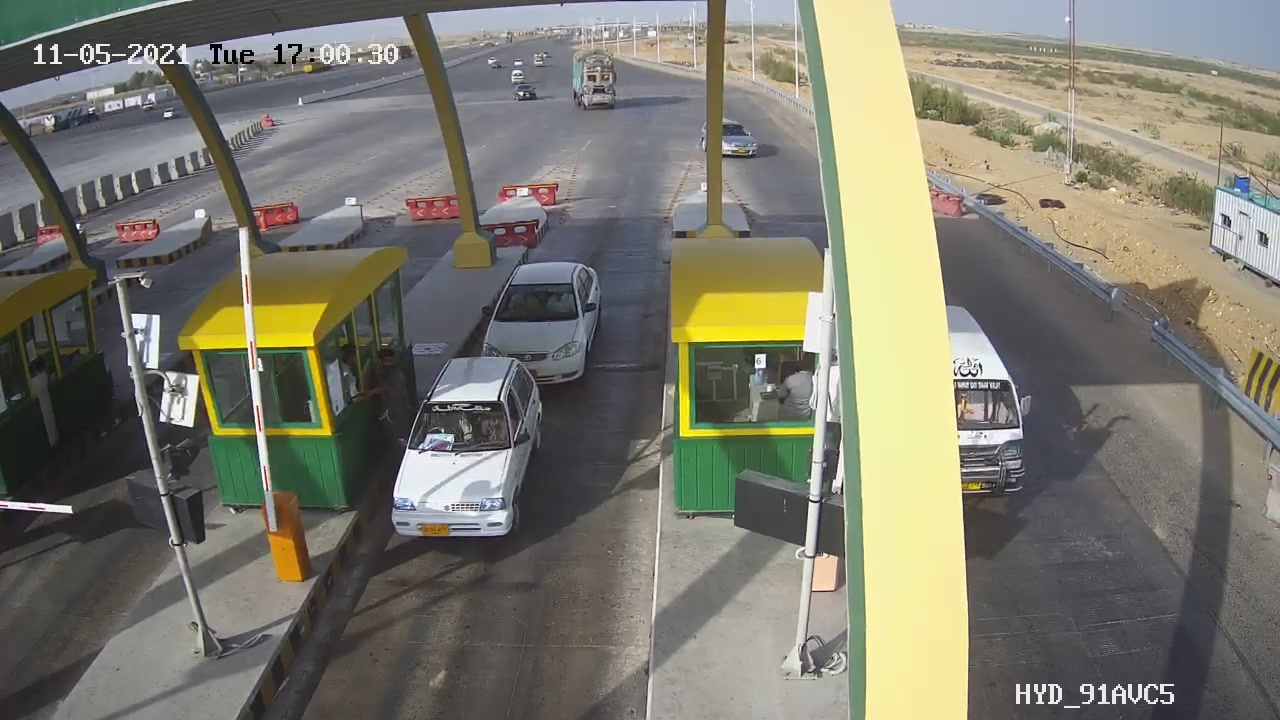F1: (373, 339, 568, 564), (469, 252, 617, 414)
